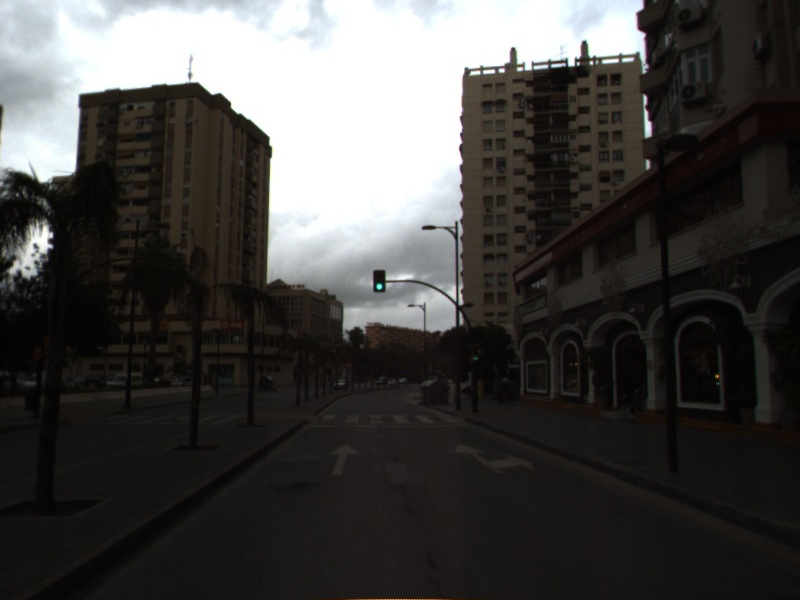STRAIGHT: (326, 442, 363, 478)
STRAIGHT_RIGHT: (454, 441, 537, 475)
